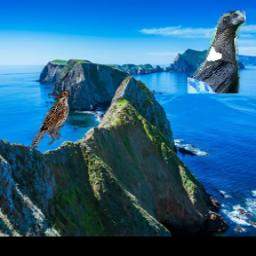Crow: (189, 12, 247, 94)
Sparrow: (31, 91, 70, 149)
